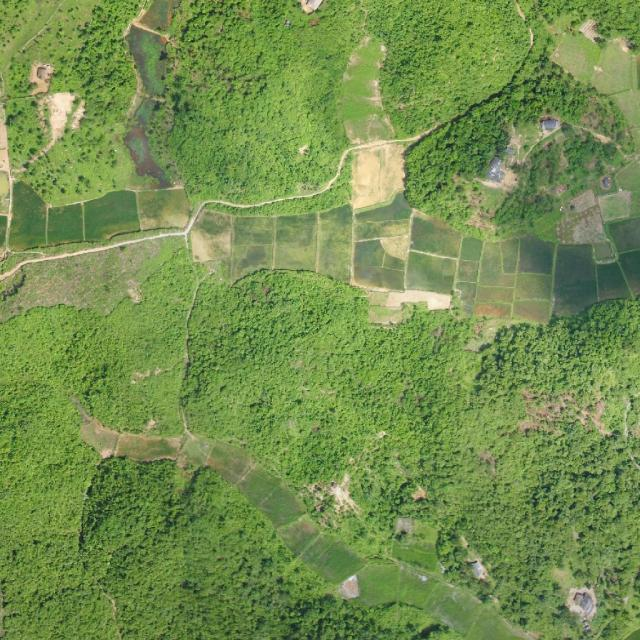agricultural_land: (74, 373, 536, 640), (184, 124, 640, 343), (2, 182, 188, 250)
